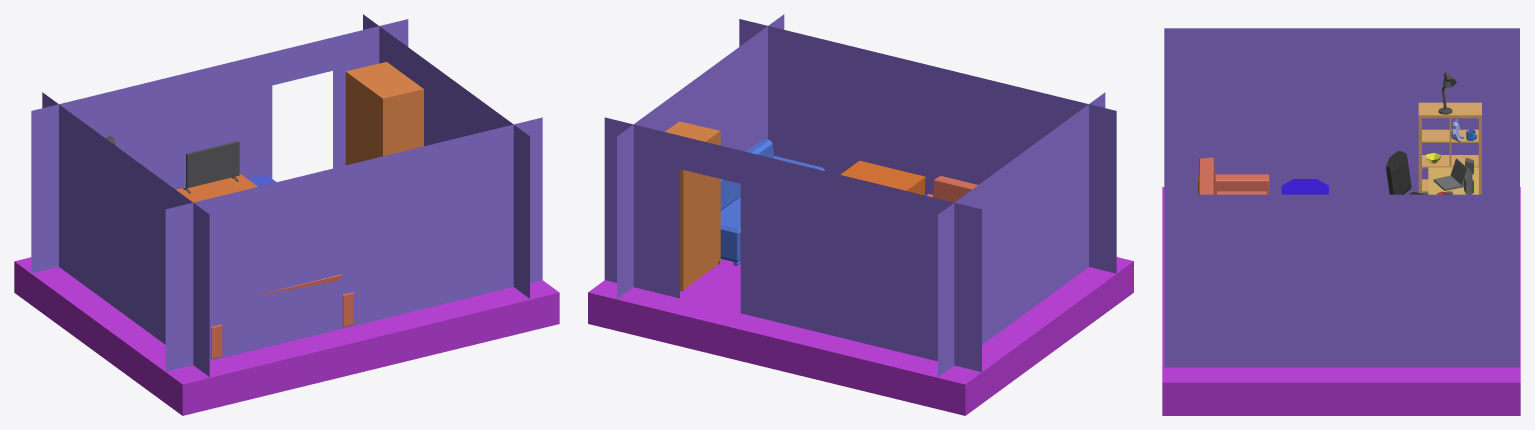
File: wisdom_interior1.glb
The picture shows the model from 3 angles, left to right: view 1: azimuth 30°, elevation 25°; view 2: azimuth 150°, elevation 25°; view 3: azimuth 270°, elevation 25°; orthographic projection. The views are drawn at different scales.
Parts seen in each view (by area): view 1: wall_Ym, floor, wall_Yp, wall_Xm, wall_Xp, shifonier, cumod__tv, couch2, cumod__cumod; view 2: wall_Yp, wall_Ym, floor, wall_Xm, wall_Xp, shifonier, couch, cumod2, couch2; view 3: wall_Xp, wall_Xm, floor, shelf__shelf, couch2, shelftable__chair, shelftable__table, jornaltable, shelftable__pc.
Boxes of the visible parts, x1,y1,x2,y2 form: wall_Ym: (165, 117, 542, 371); floor: (14, 257, 559, 415); wall_Yp: (31, 19, 408, 273); wall_Xm: (42, 92, 209, 376); wall_Xp: (363, 14, 529, 298); shifonier: (345, 62, 423, 165); cumod__tv: (183, 141, 239, 193); couch2: (211, 274, 353, 359); cumod__cumod: (176, 174, 257, 202); wall_Yp: (604, 117, 981, 371); wall_Ym: (739, 19, 1116, 273); floor: (588, 257, 1133, 415); wall_Xm: (938, 92, 1105, 376); wall_Xp: (617, 14, 784, 298); shifonier: (665, 121, 720, 291); couch: (720, 139, 824, 265); cumod2: (840, 160, 925, 195); couch2: (926, 176, 977, 202); wall_Xp: (1164, 194, 1519, 367); wall_Xm: (1164, 28, 1519, 194); floor: (1162, 187, 1520, 415); shelf__shelf: (1418, 102, 1481, 194); couch2: (1198, 157, 1269, 194); shelftable__chair: (1386, 151, 1426, 194); shelftable__table: (1428, 167, 1478, 194); jornaltable: (1281, 179, 1328, 194); shelftable__pc: (1433, 158, 1467, 190).
Size of the model in its own units: 12.98 by 6.38 by 10.04.
